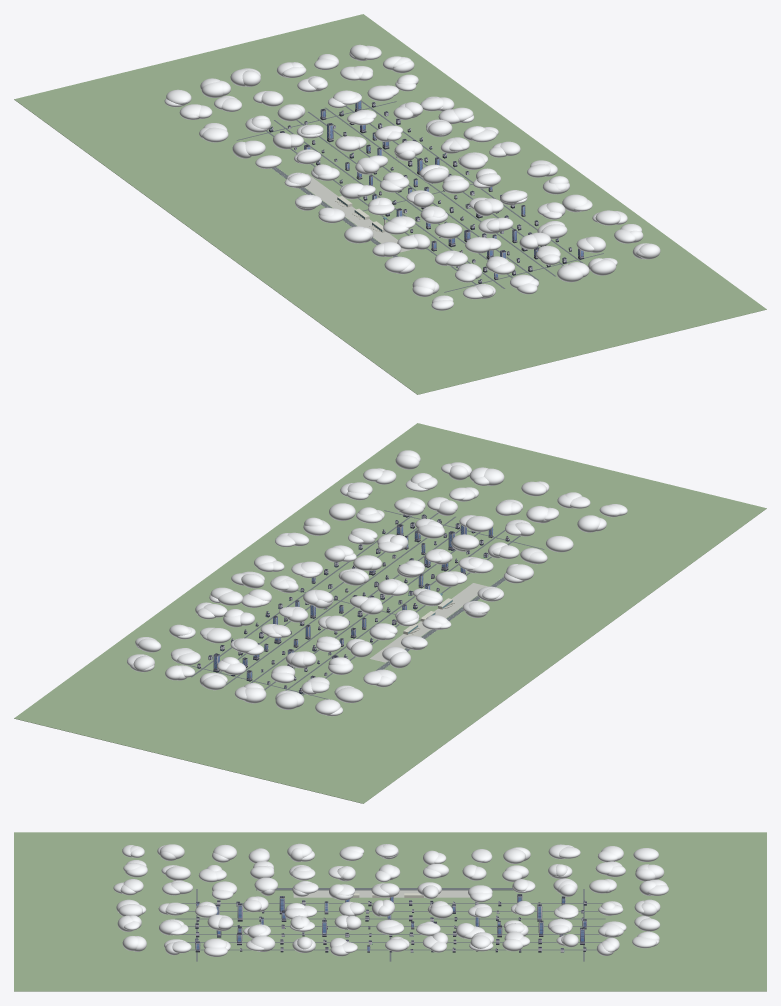
Rendered from window_scene.glb.
3 views of the same model, one above another, from view 1: azimuth 30°, elevation 25°; view 2: azimuth 150°, elevation 25°; view 3: azimuth 270°, elevation 25° (orthographic). The views are drawn at different scales.
Visible parts, largest first — view 1: airport-and-city-ground, airport-apron; view 2: airport-and-city-ground, airport-apron; view 3: airport-and-city-ground, city-road (×2), airport-apron, cloud-bank (×2), runway.
Part boxes in pixels (<box>): airport-and-city-ground: <box>14,14,766,394</box>; airport-apron: <box>305,174,410,252</box>; airport-and-city-ground: <box>14,423,766,803</box>; airport-apron: <box>370,583,487,662</box>; airport-and-city-ground: <box>14,832,766,991</box>; city-road (×2): <box>175,918,605,950</box>; airport-apron: <box>293,890,470,897</box>; cloud-bank (×2): <box>165,848,658,880</box>; runway: <box>256,888,513,890</box>.
Bounding box in the file's own units: 3500 × 302 × 7000.
13 materials, 6 textured.
